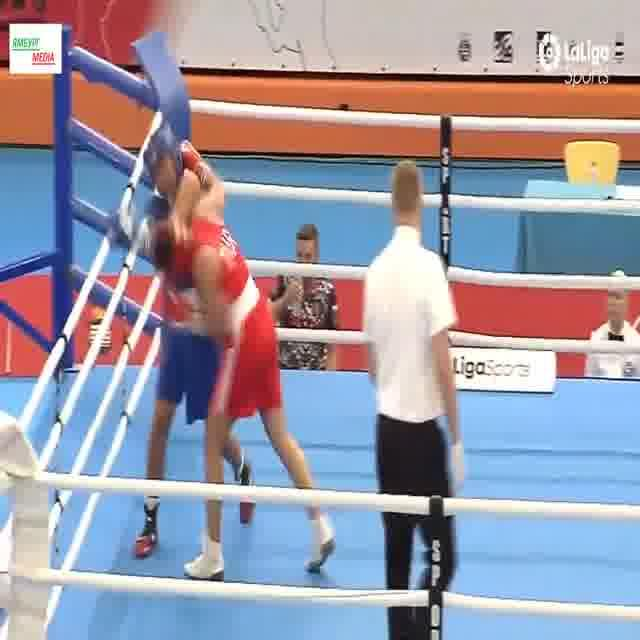blue-player: (102, 130, 253, 564)
red-player: (146, 136, 337, 584)
referee: (360, 159, 470, 640)
